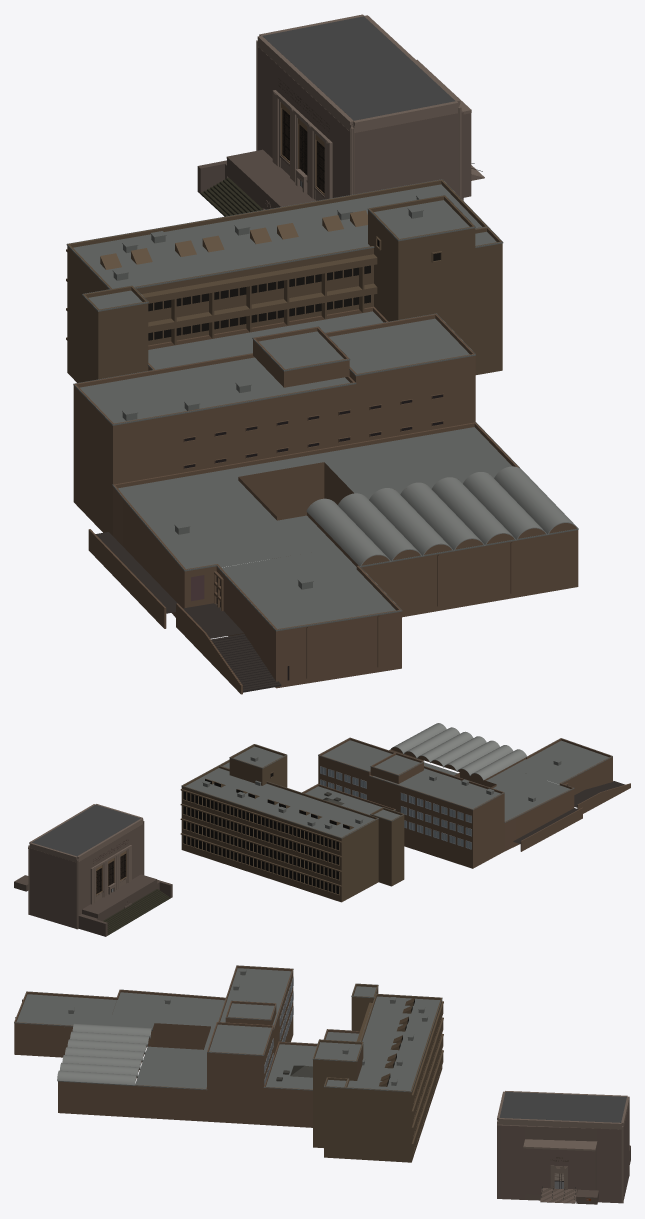
The picture shows the model from 3 angles, top to bottom: view 1: azimuth 30°, elevation 25°; view 2: azimuth 150°, elevation 25°; view 3: azimuth 270°, elevation 25°; orthographic projection. The views are drawn at different scales.
Parts seen in each view (by area): view 1: opaque, glass; view 2: opaque, glass; view 3: opaque, glass.
Boxes of the visible parts, box(x1,y1,x2,y2) form: opaque: box(66, 14, 578, 694); glass: box(148, 180, 442, 680); opaque: box(14, 723, 630, 936); glass: box(111, 767, 471, 894); opaque: box(14, 965, 630, 1204); glass: box(264, 983, 563, 1188).
Size of the model in its own units: 125 by 30.13 by 168.
2 materials, 2 textured.
